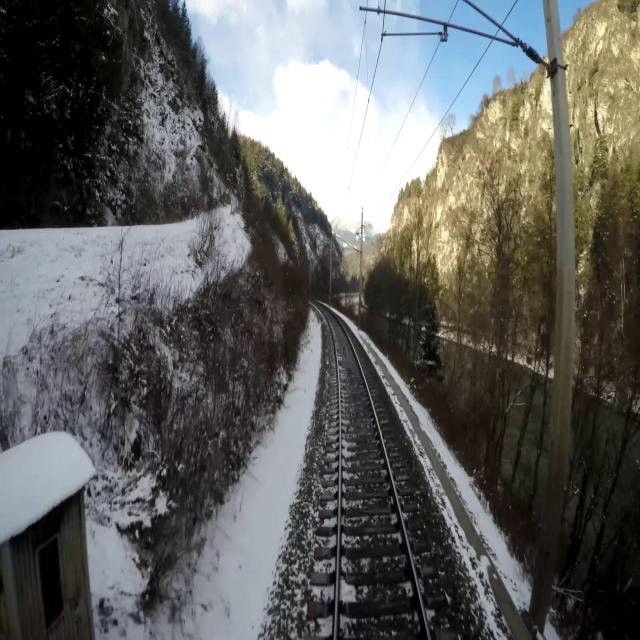rail-track: (320, 306, 426, 639)
